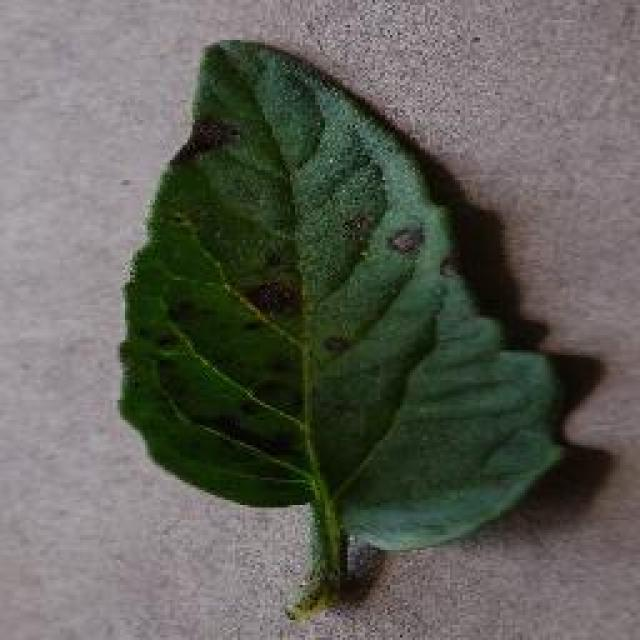Tomato Early blight leaf: (124, 44, 568, 616)
